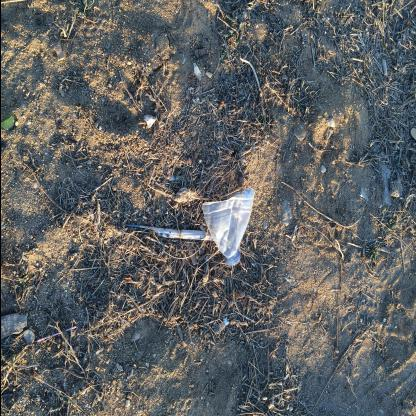plastik: (202, 187, 256, 268)
